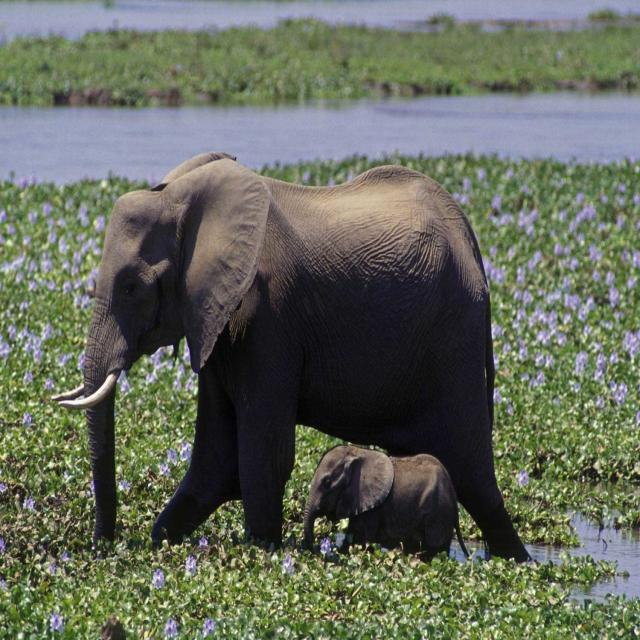Elephant: (67, 140, 535, 566), (292, 423, 478, 583)
